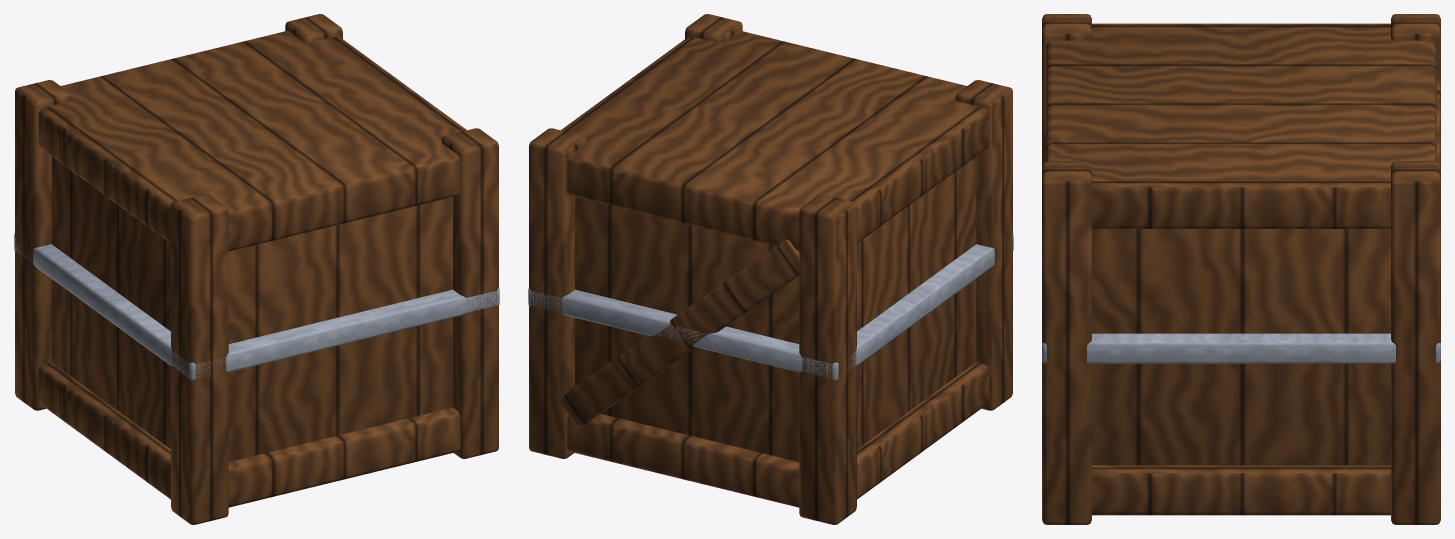
The model's file is crate.glb.
3 views of the same model, side by side, from view 1: azimuth 30°, elevation 25°; view 2: azimuth 150°, elevation 25°; view 3: azimuth 270°, elevation 25° (orthographic). The views are drawn at different scales.
Parts seen in each view (by area): view 1: CrateInner, CrateRim.001, Post, CrateRim, Post.002, IronCorner, Post.001, Post.003; view 2: CrateRim.001, CrateInner, Post.001, CrateRim, Post.003, IronCorner, Post, Diag, Post.002; view 3: CrateRim.001, CrateInner, Post.002, Post.003, CrateRim, IronCorner, Post, Post.001.
Boxes of the visible parts, x1,y1,x2,y2 form: CrateInner: (51,156,452,461); CrateRim.001: (38,31,466,251); Post: (171,194,228,524); CrateRim: (38,362,460,507); Post.002: (441,128,498,458); IronCorner: (14,233,499,380); Post.001: (15,80,72,410); Post.003: (285,14,342,42); CrateRim.001: (561,31,989,251); CrateInner: (575,156,976,461); Post.001: (799,194,856,524); CrateRim: (567,362,989,507); Post.003: (529,128,586,458); IronCorner: (528,233,1013,380); Post: (955,80,1012,410); Diag: (562,239,802,427); Post.002: (685,14,742,42); CrateRim.001: (1046,23,1436,228); CrateInner: (1092,229,1390,465); Post.002: (1042,161,1091,524); Post.003: (1391,161,1440,524); CrateRim: (1091,465,1391,515); IronCorner: (1042,333,1440,363); Post: (1042,14,1091,165); Post.001: (1391,14,1440,82).
Bounding box in the file's own units: 0.96 × 0.92 × 0.96.
3 materials, 3 textured.
